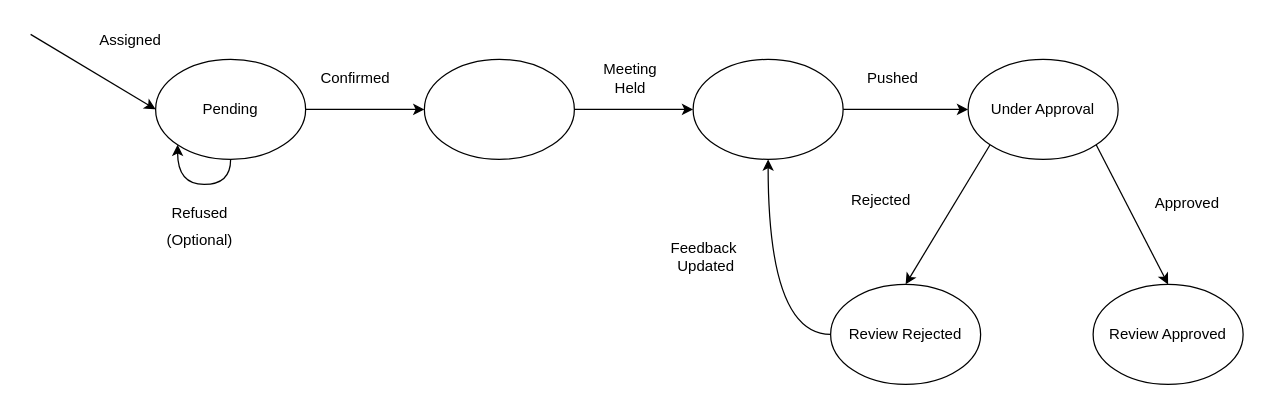
The diagram is 1265 pixels wide and 406 high, and some of its shapes have lost their labels. Each missing label, with the centre of its shape:
"Feedback Provided" goes at point 767,108.
"Scheduled" goes at point 498,108.
